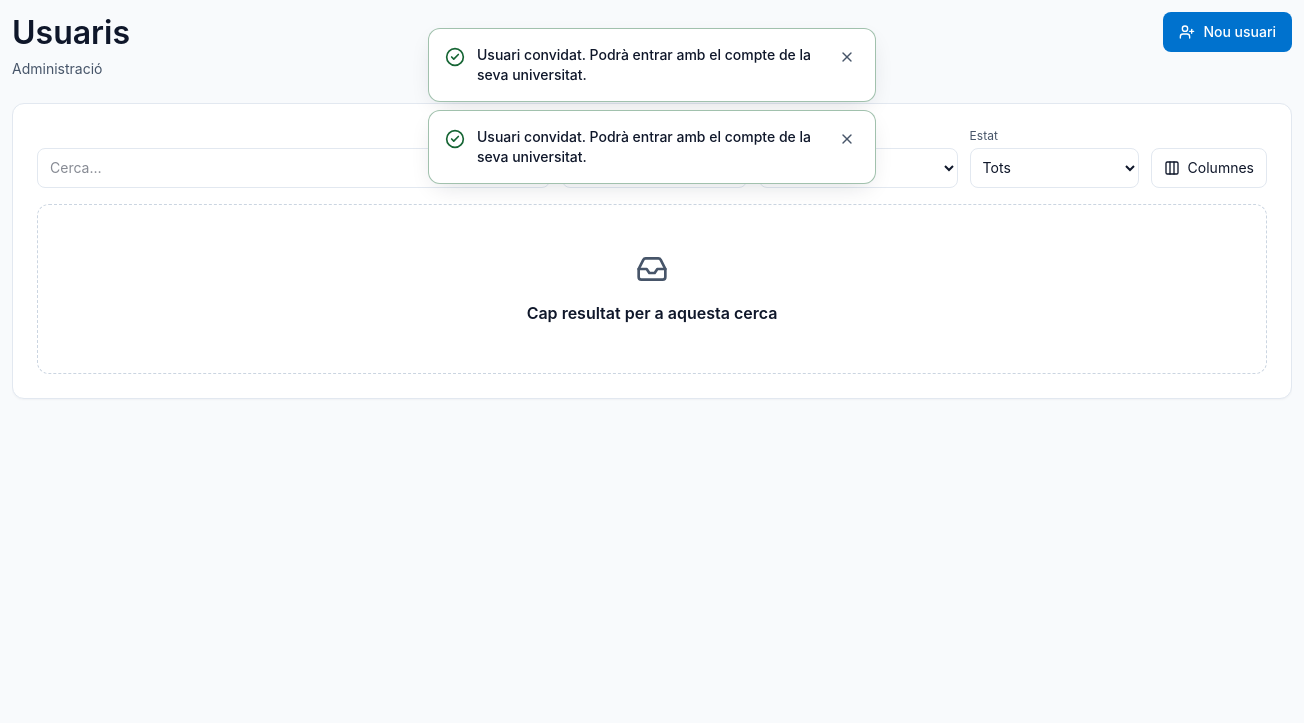
it: the users screen › says no invitation went out, rather than blaming the mail server
Click the button "Nou usuari" at x=1228, y=32, box [1163,12,1292,52]
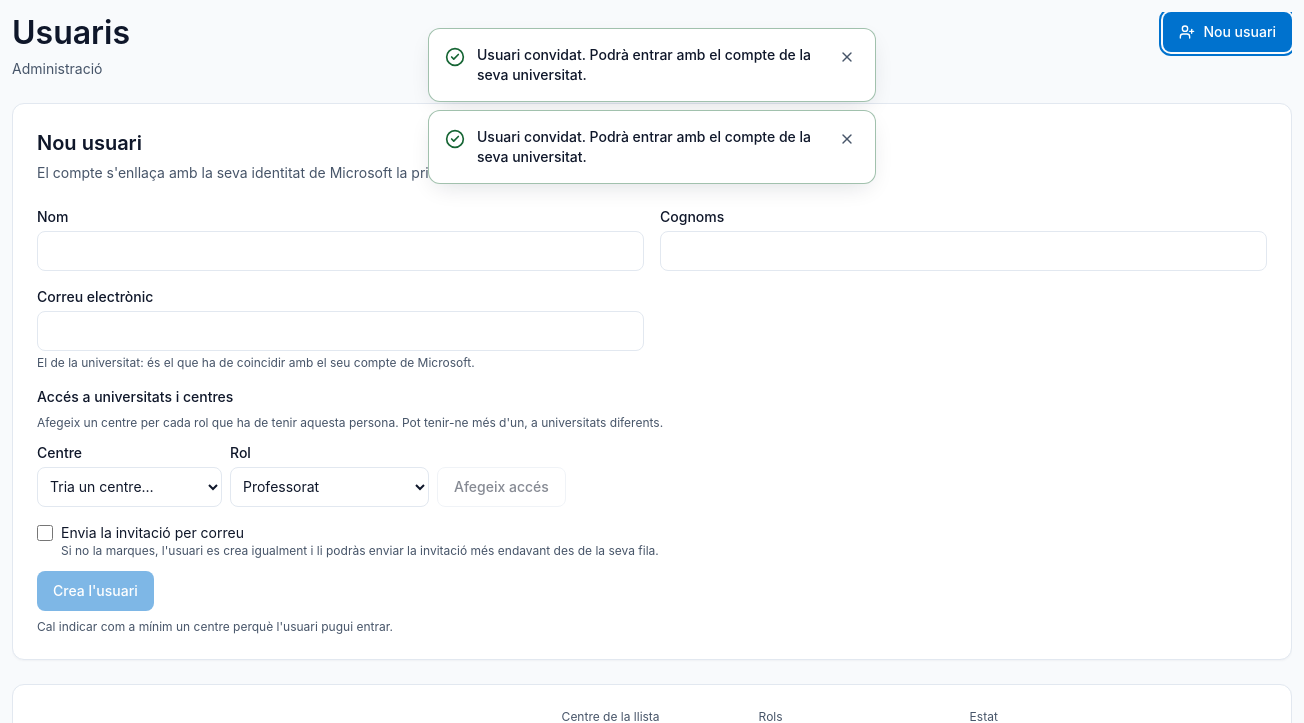
Type "Marta" into the field labelled "Nom" at x=340, y=251, box [37,231,644,271]
Type "Puig Serra" into the field labelled "Cognoms" at x=964, y=251, box [660,231,1267,271]
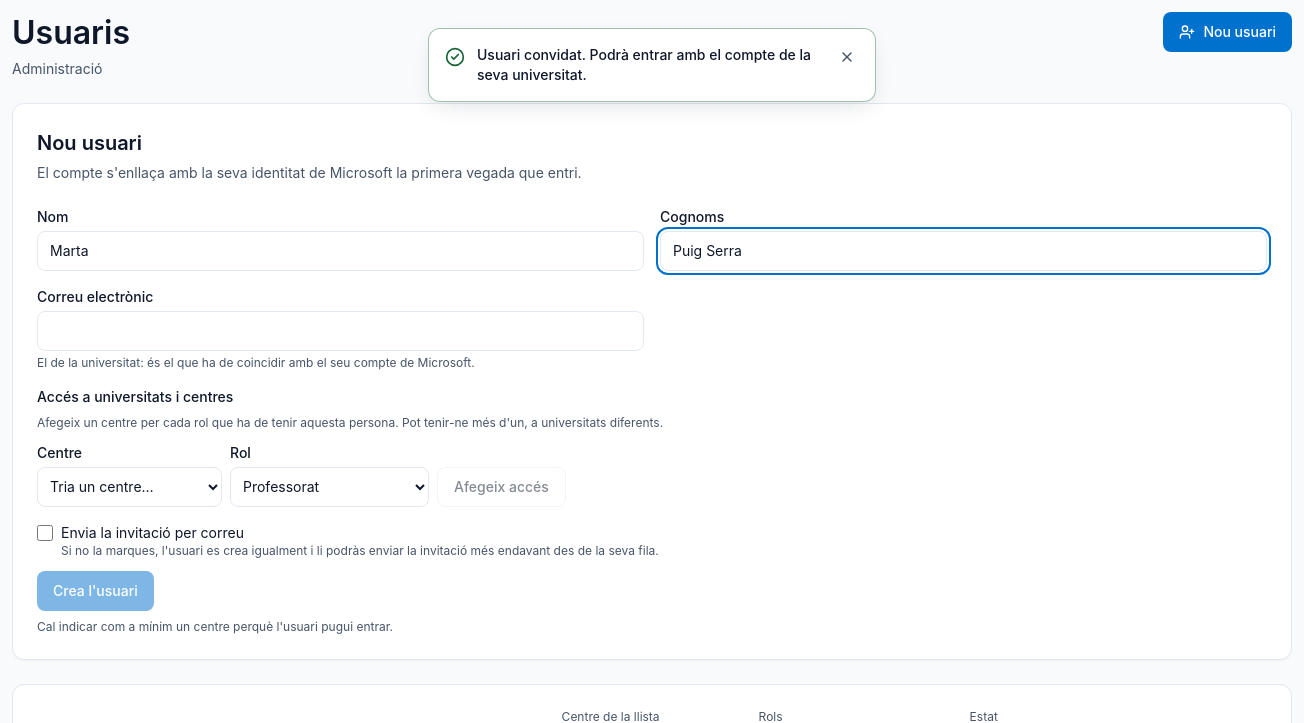
Type "marta.puig@uni.test" into the field labelled "Correu electrònic" at x=340, y=331, box [37,311,644,351]
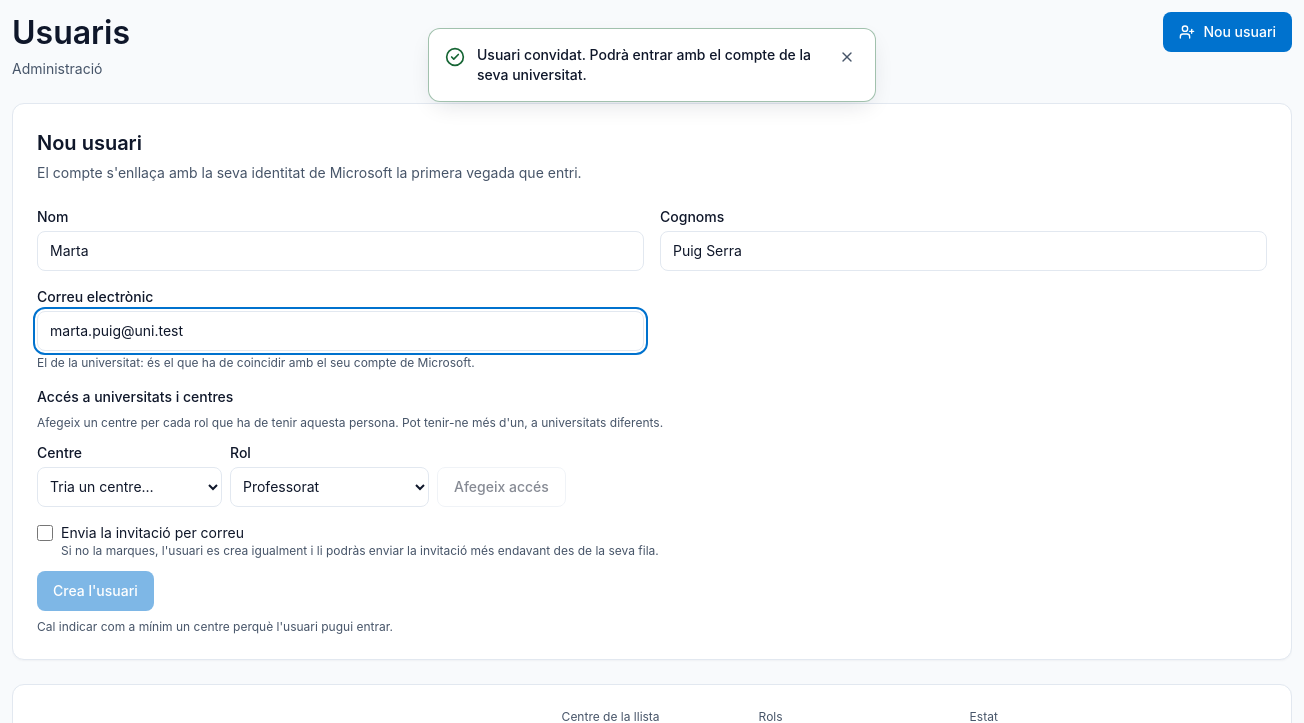
Select "Facultat d'Educació" in the dropdown labelled "Centre" at x=130, y=487, box [37,467,222,507]
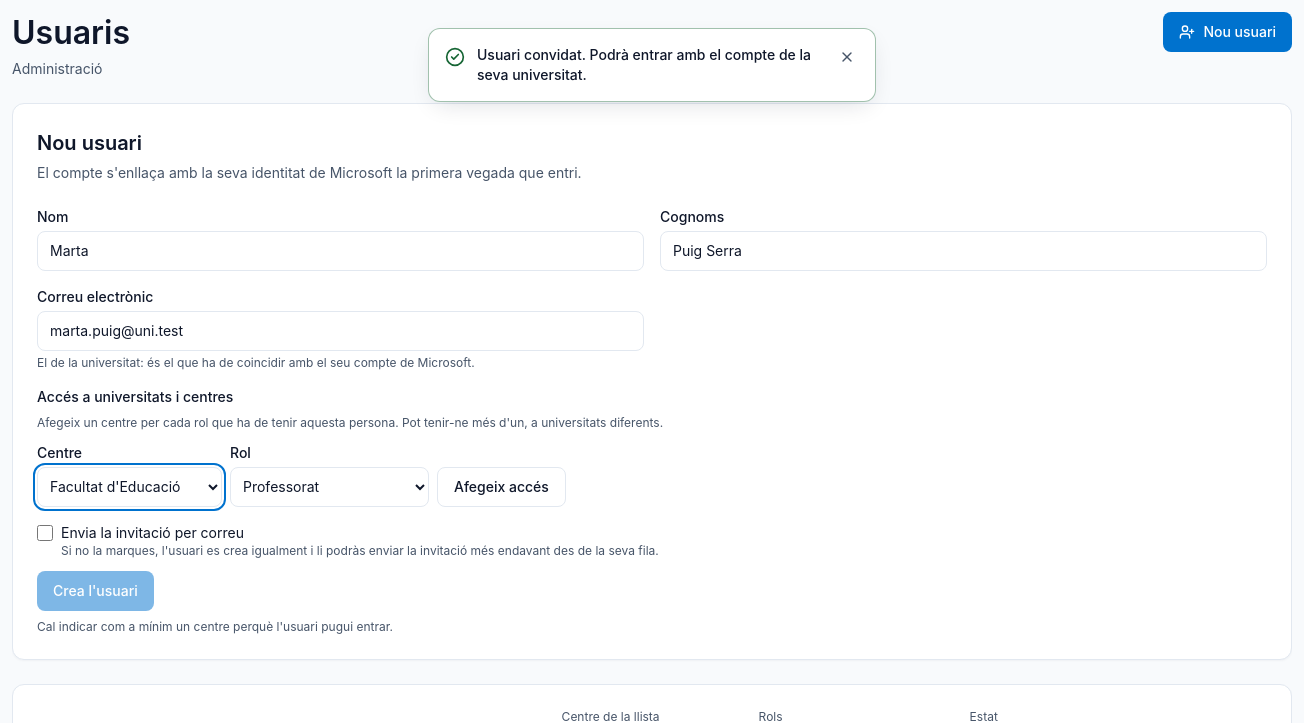
Click the button "Afegeix accés" at x=501, y=487, box [437,467,566,507]
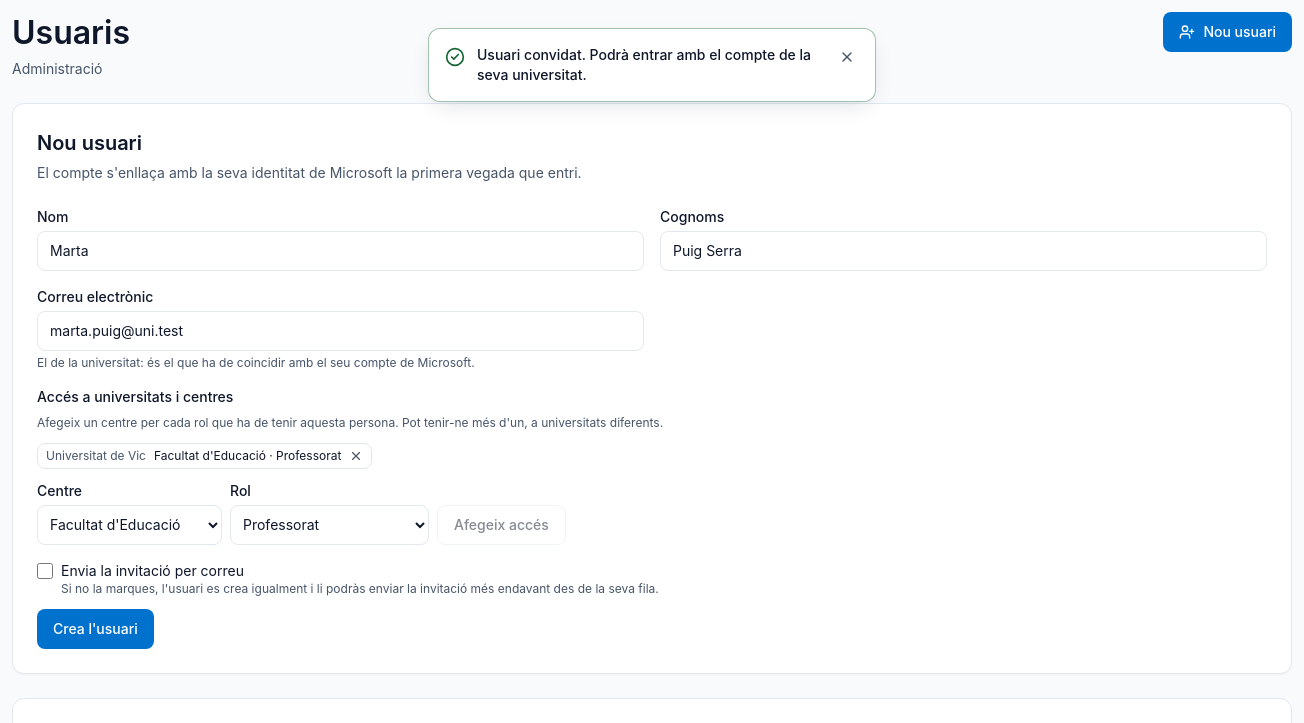
Click the button "Crea l'usuari" at x=95, y=629, box [37,609,154,649]
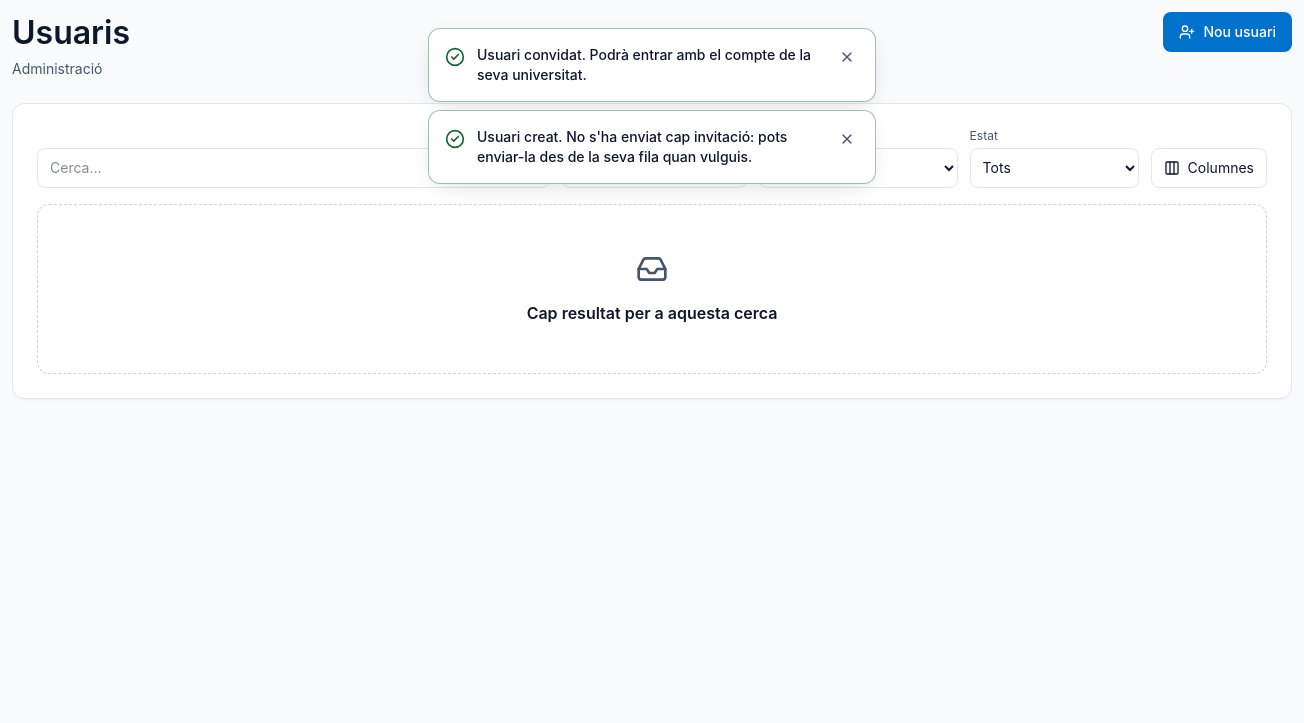
Expected: the text "No s'ha enviat cap invitació" is shown, [477,128,787,165]
